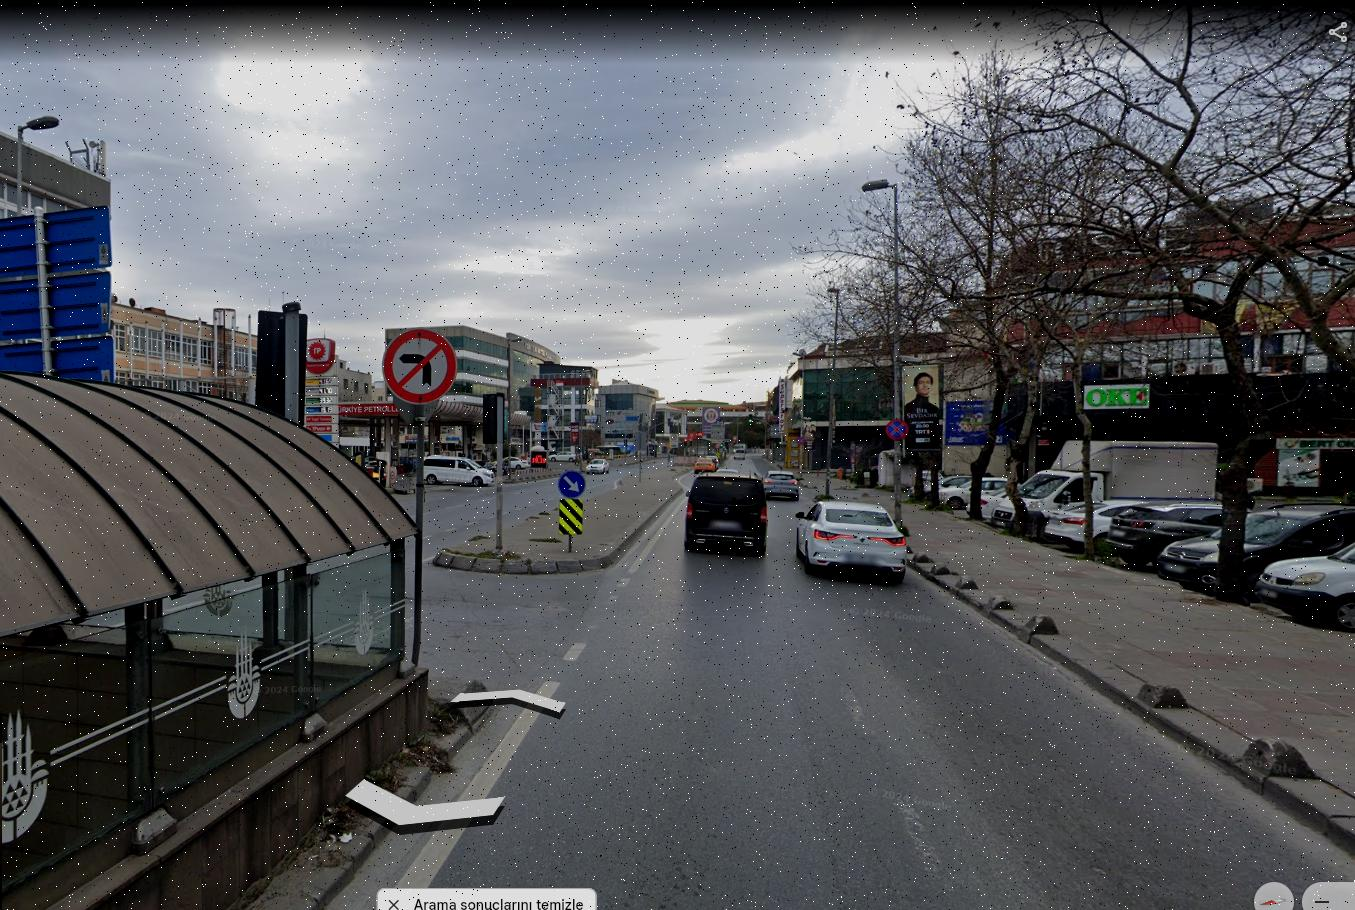leftturnsareforbidden: (383, 328, 460, 404)
